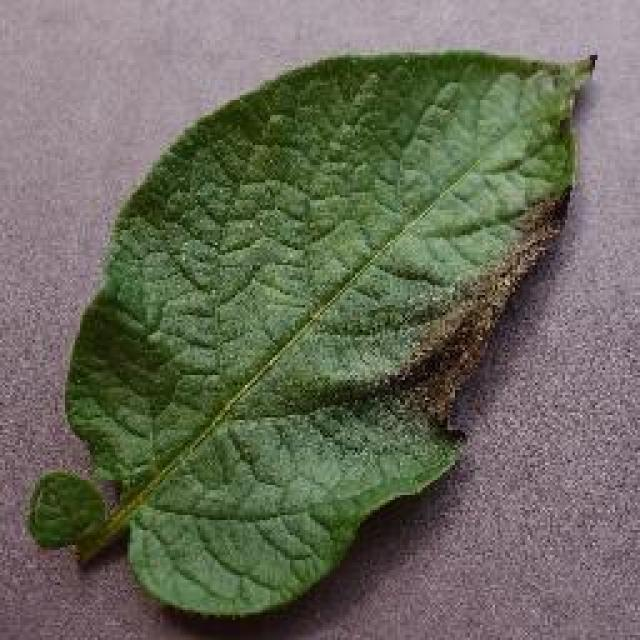late_blight: (42, 42, 602, 622)
